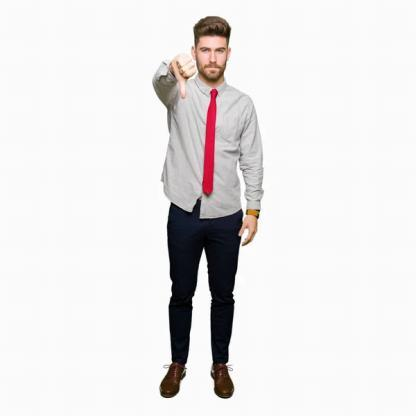thumb_down: (170, 49, 200, 103)
